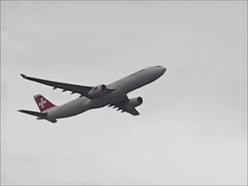aircraft: (18, 65, 166, 123)
